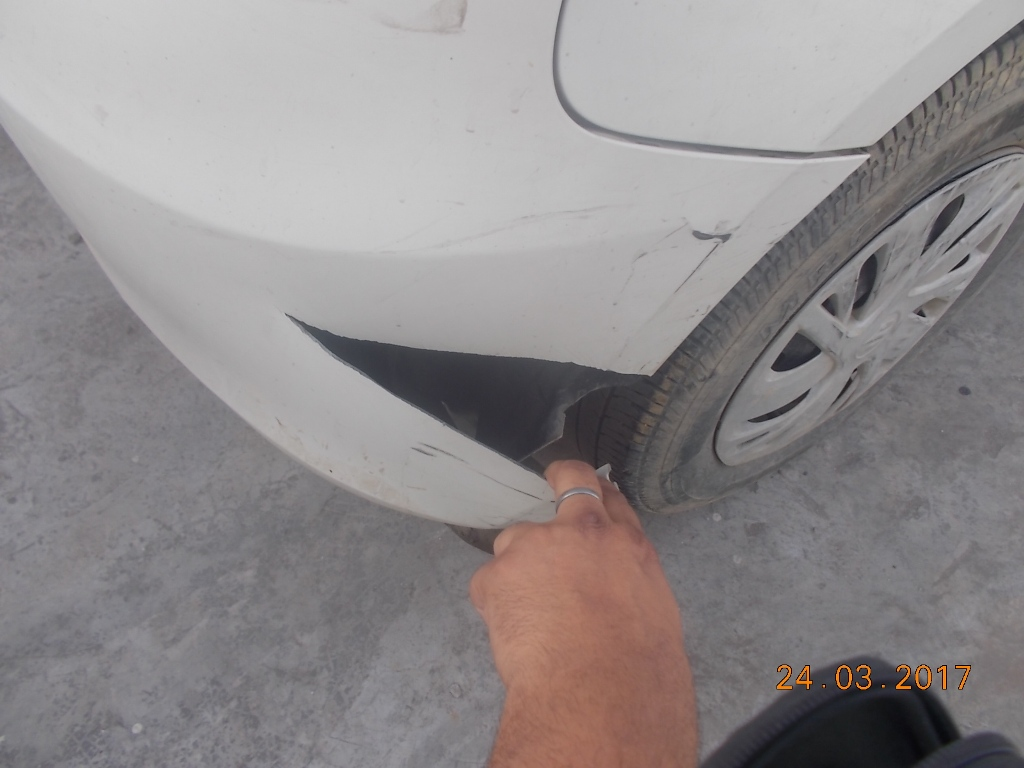Tear: (289, 293, 640, 494)
